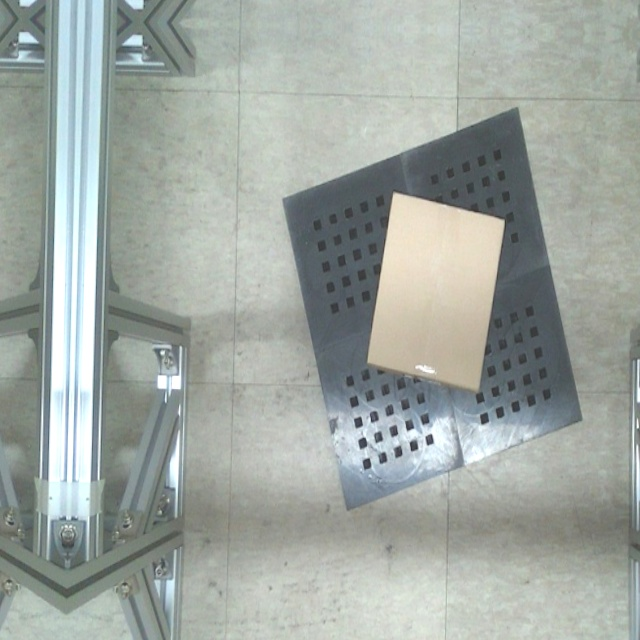box: (362, 187, 510, 395)
pallet: (269, 91, 604, 526)
